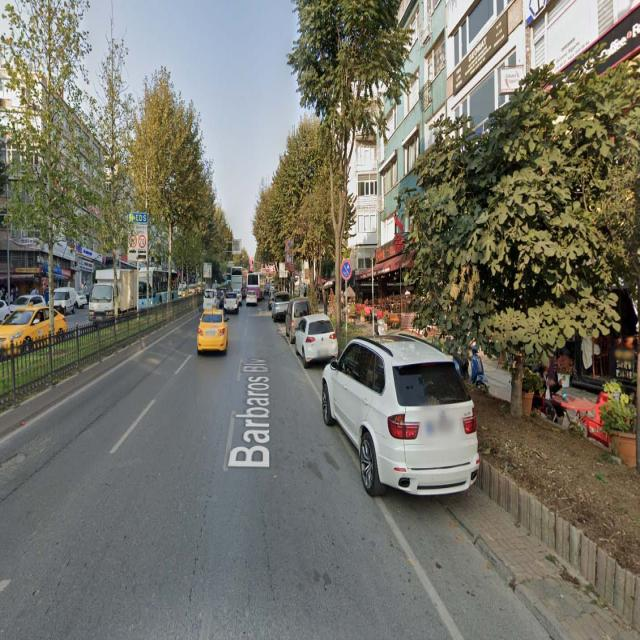parkyasak: (341, 259, 351, 280)
